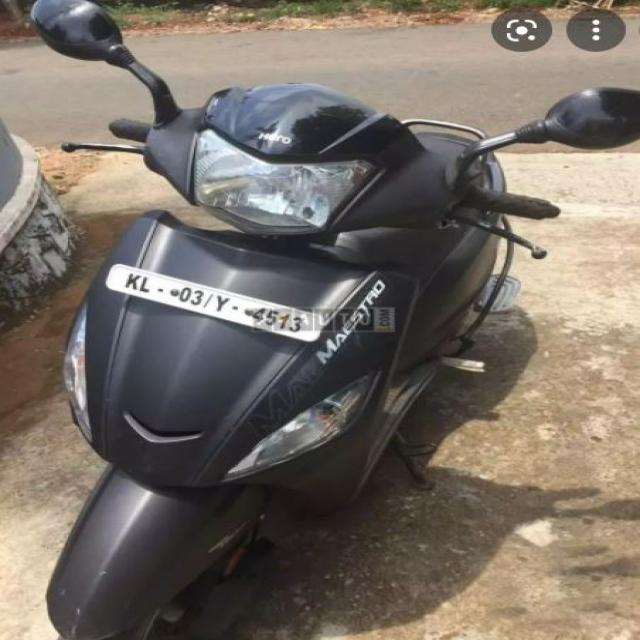license_plate: (103, 262, 324, 343)
